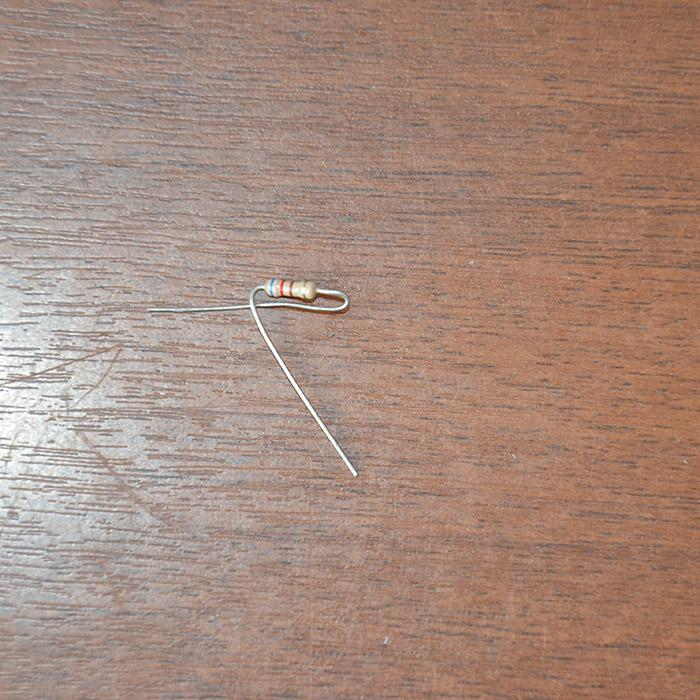resistor: (266, 277, 318, 301)
